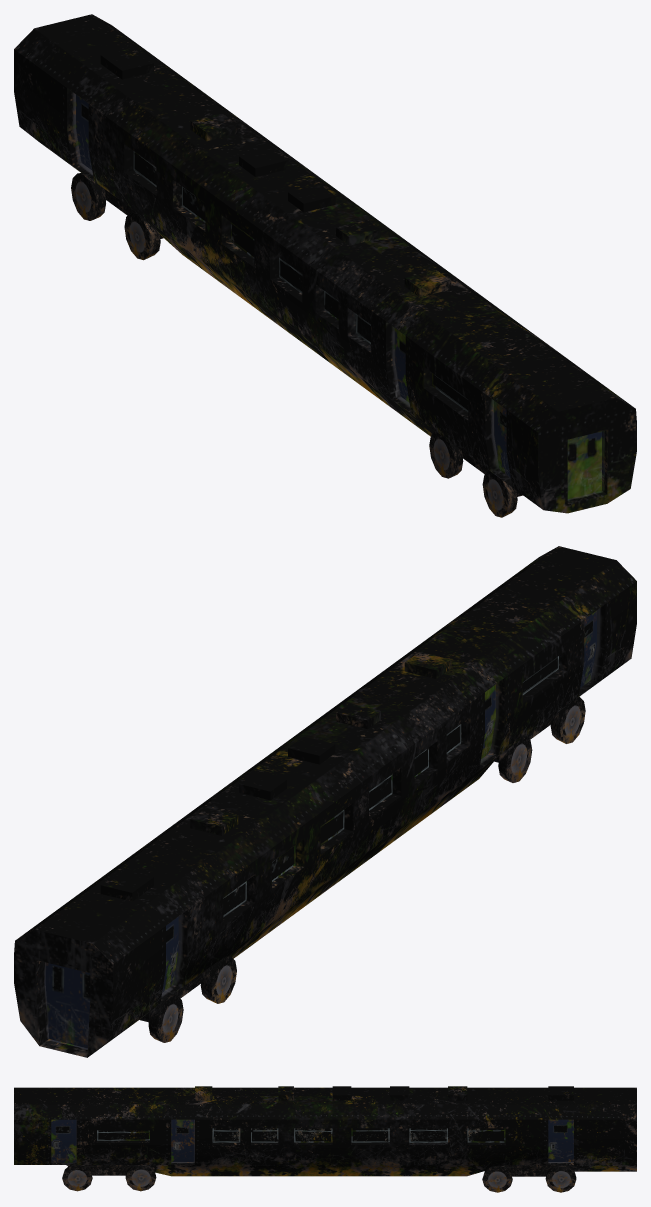
3 renders of one model, top to bottom at view 1: azimuth 30°, elevation 25°; view 2: azimuth 150°, elevation 25°; view 3: azimuth 270°, elevation 25°, orthographic. The views are drawn at different scales.
Parts seen in each view (by area): view 1: Box002_Body_0, Cylinder003, Cylinder004; view 2: Box002_Body_0, Cylinder003, Cylinder004; view 3: Box002_Body_0, Cylinder003, Cylinder004.
Boxes of the visible parts, x1,y1,x2,y2 form: Box002_Body_0: (14, 14, 636, 513); Cylinder003: (71, 173, 163, 260); Cylinder004: (429, 431, 522, 517); Box002_Body_0: (14, 546, 636, 1057); Cylinder003: (139, 956, 236, 1042); Cylinder004: (494, 697, 585, 782); Box002_Body_0: (14, 1086, 636, 1176); Cylinder003: (482, 1165, 576, 1192); Cylinder004: (62, 1165, 156, 1191).
Size of the model in its own units: 49.01 by 70.81 by 450.
3 materials, 3 textured.
